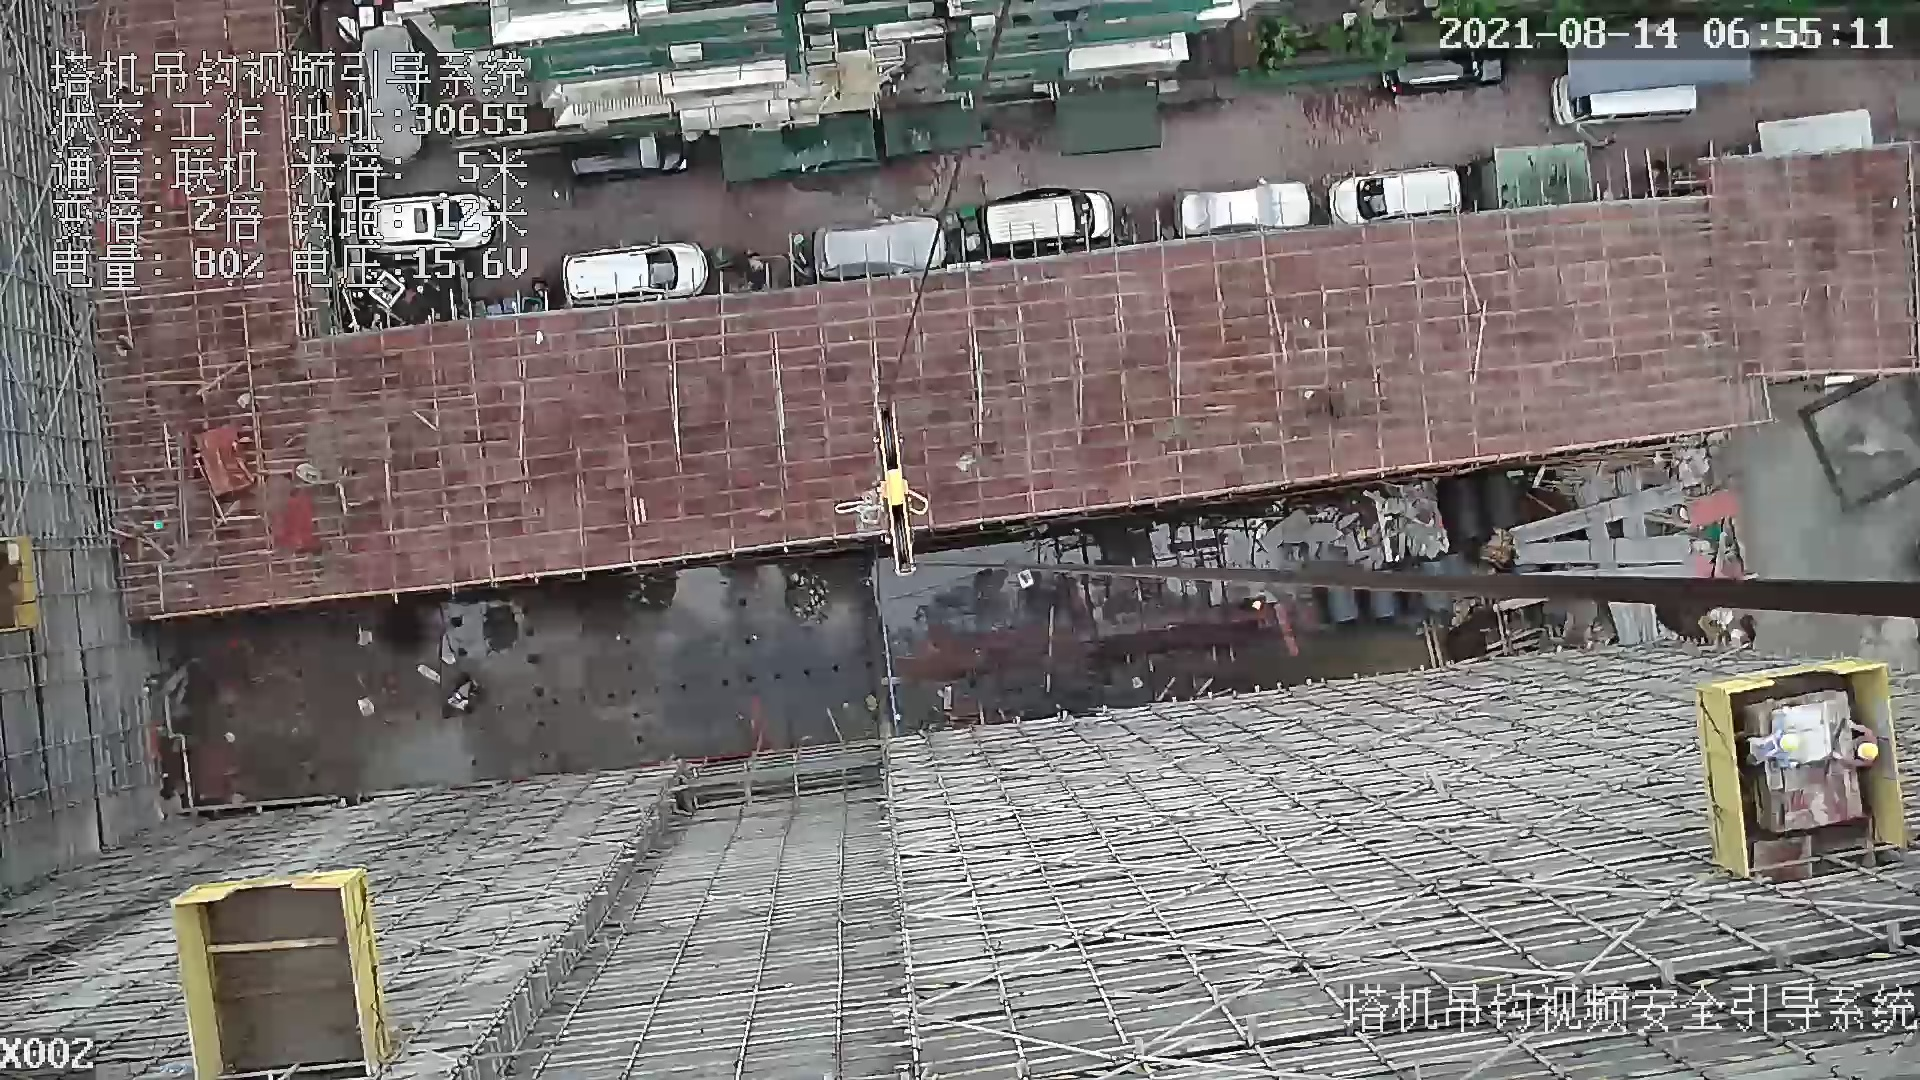board: (1750, 691, 1863, 837)
helmet: (1857, 743, 1878, 760), (1780, 733, 1799, 750)
hook: (868, 401, 931, 578)
person: (1736, 729, 1799, 769), (1841, 720, 1878, 767)
rebar: (1507, 481, 1684, 546), (1512, 535, 1688, 564), (1608, 601, 1640, 645), (1629, 603, 1660, 640)
